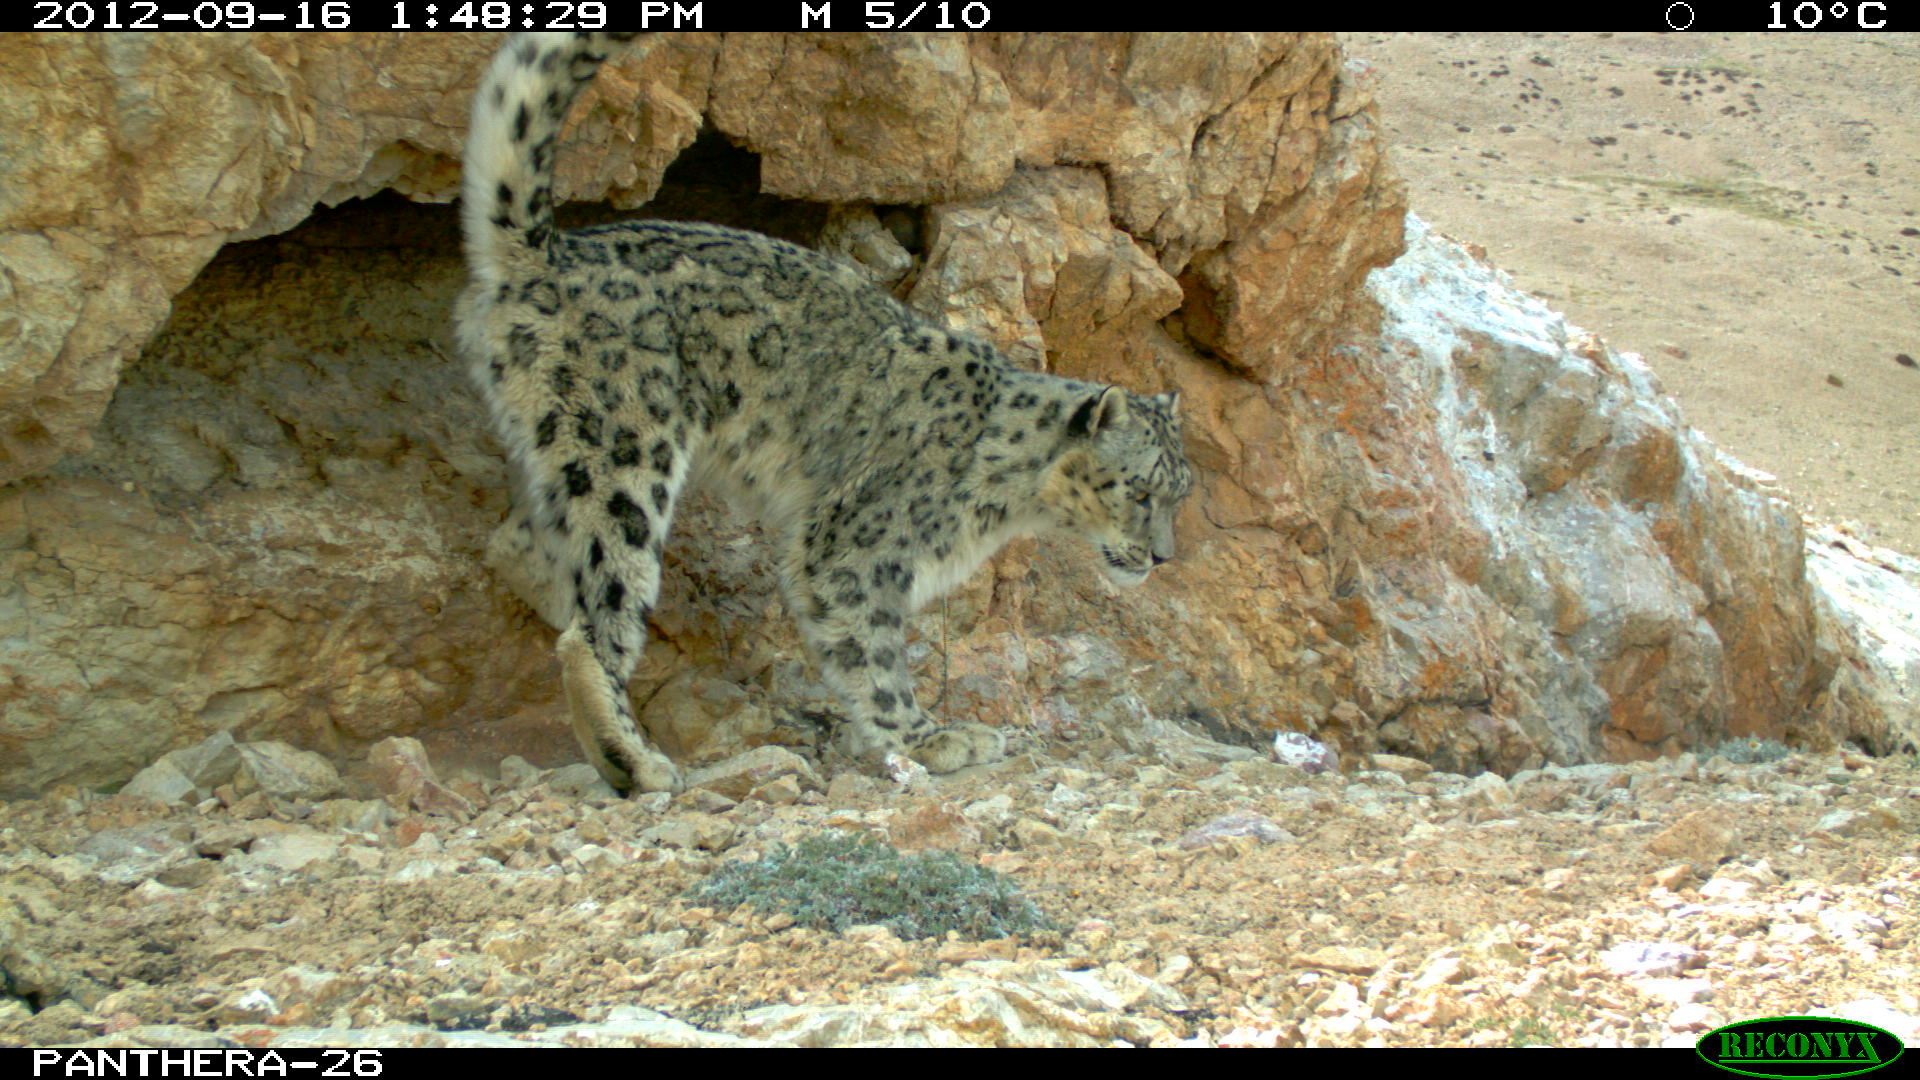Leopard: (423, 32, 1215, 819)
